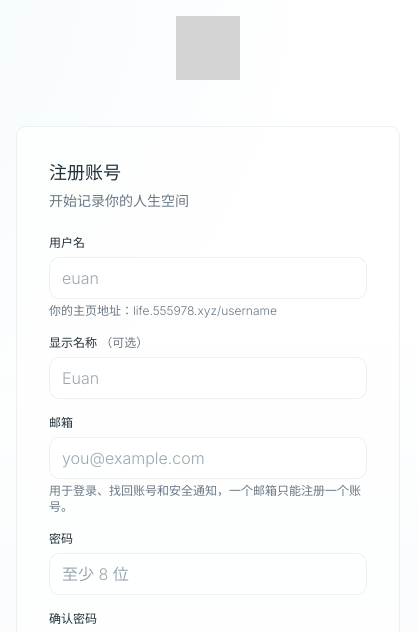
it: registration › refuses a reserved username before any request goes out
Type "admin" into the field labelled "用户名" at (208, 278), box left=49, top=257, right=367, bottom=299
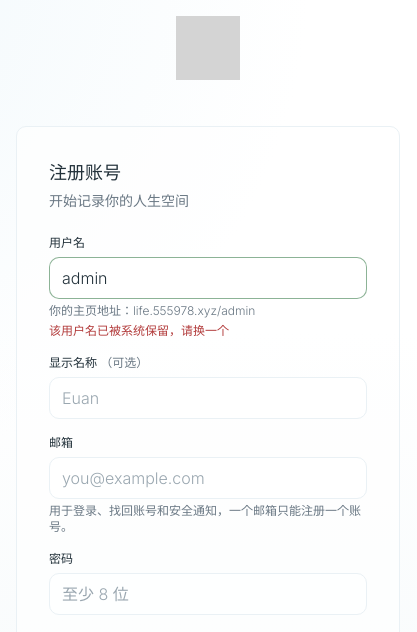
expect the text "该用户名已被系统保留，请换一个" is shown: met, box left=49, top=323, right=229, bottom=338
